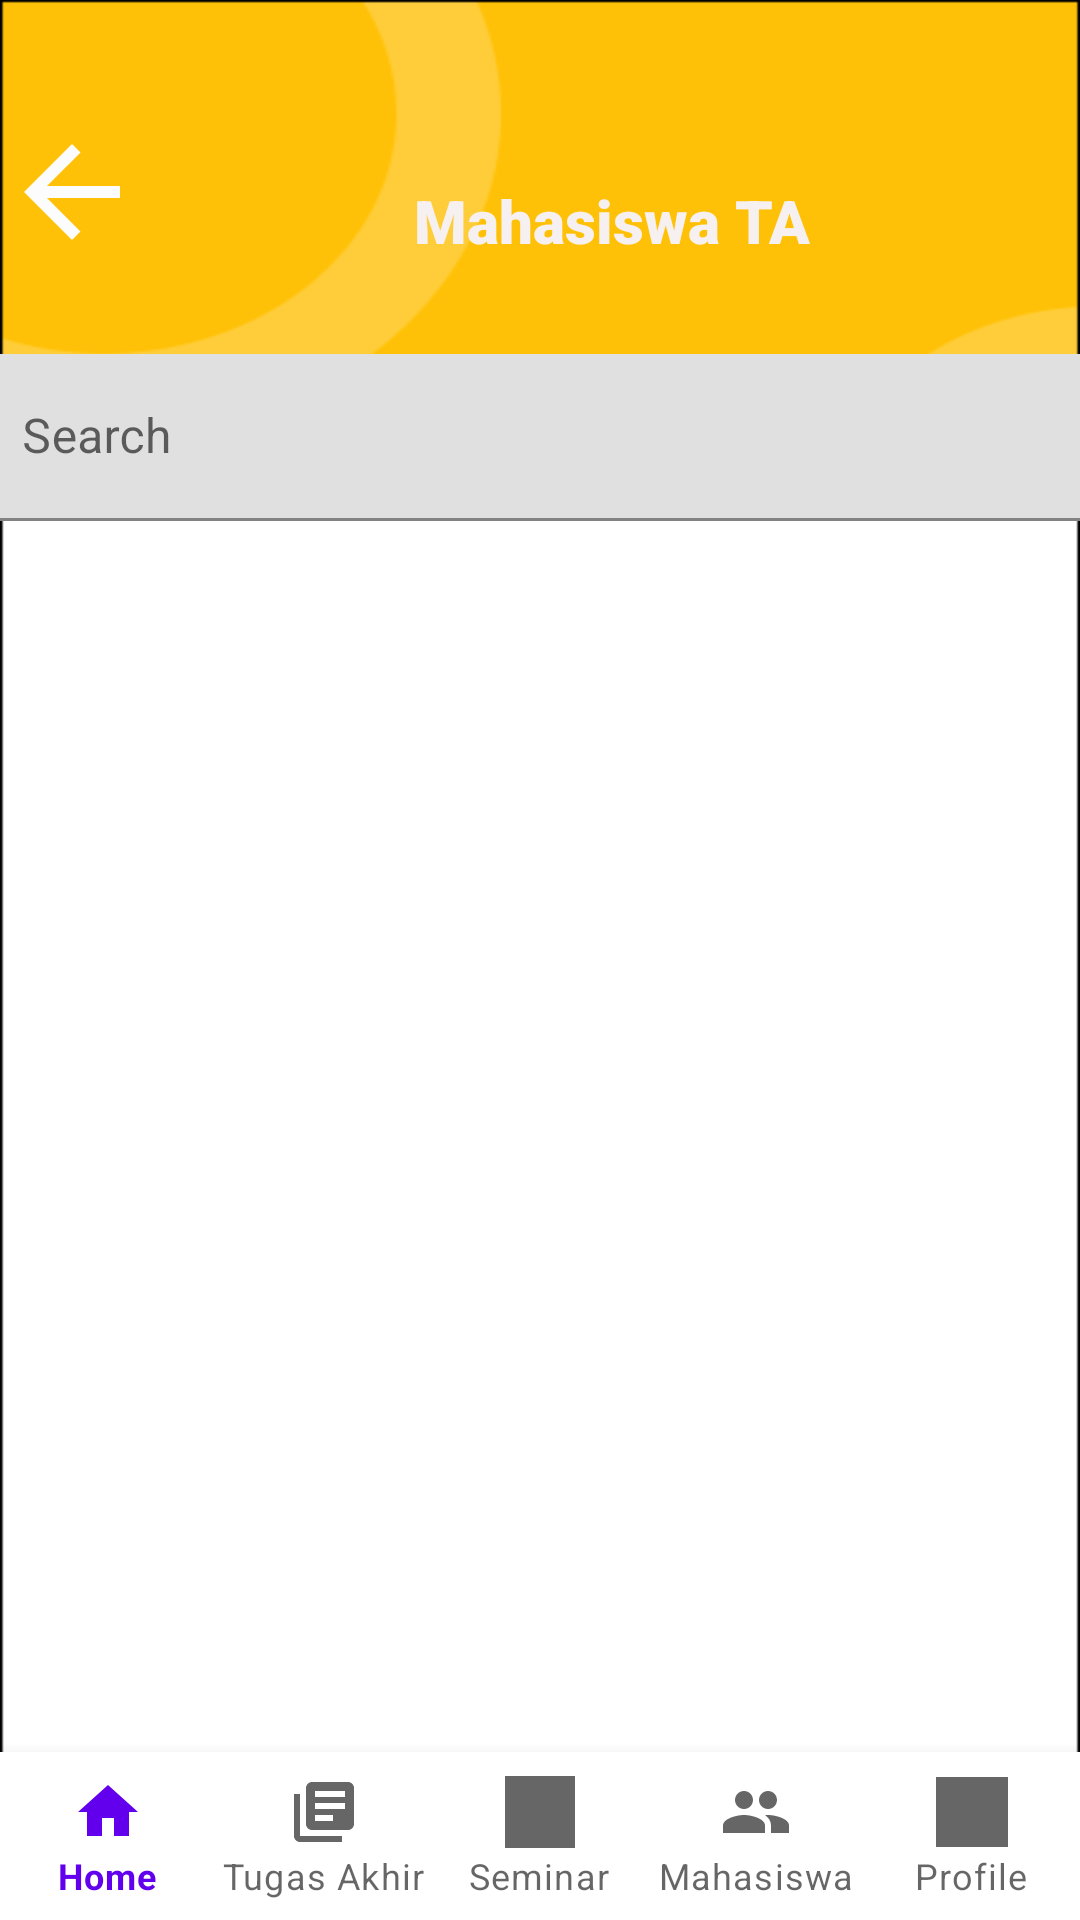

Icons on this 1080px×1920px Android screen, each with its box as BBox(x1, y1, x2, y2):
arrow left: BBox(24, 144, 120, 240)
